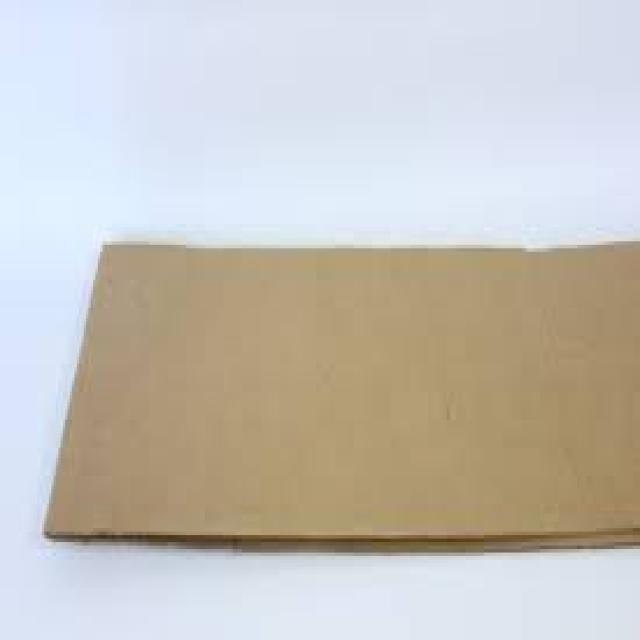cardboard: (42, 238, 638, 549)
